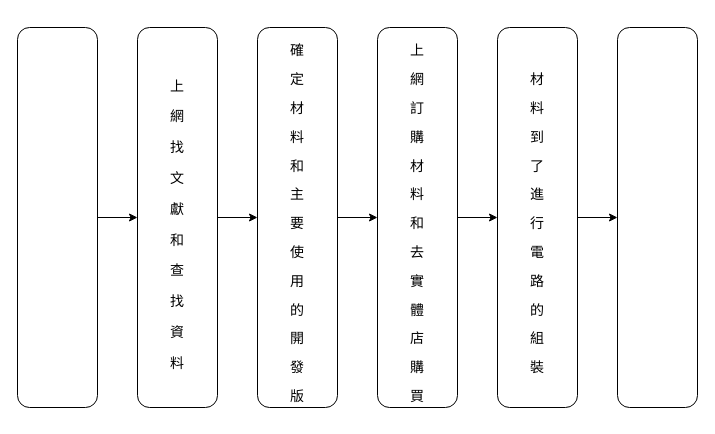
The diagram is 715 pixels wide and 434 high, and some of its shapes have lost their labels. Here are the shapes that lost their labels. From the top down, the box of each, then its label:
(16, 26, 98, 408): 討 論 製 作 專 題 的 方 向 和 題 目
(616, 26, 698, 408): 程 式 進 行 編 寫 及 改 良
